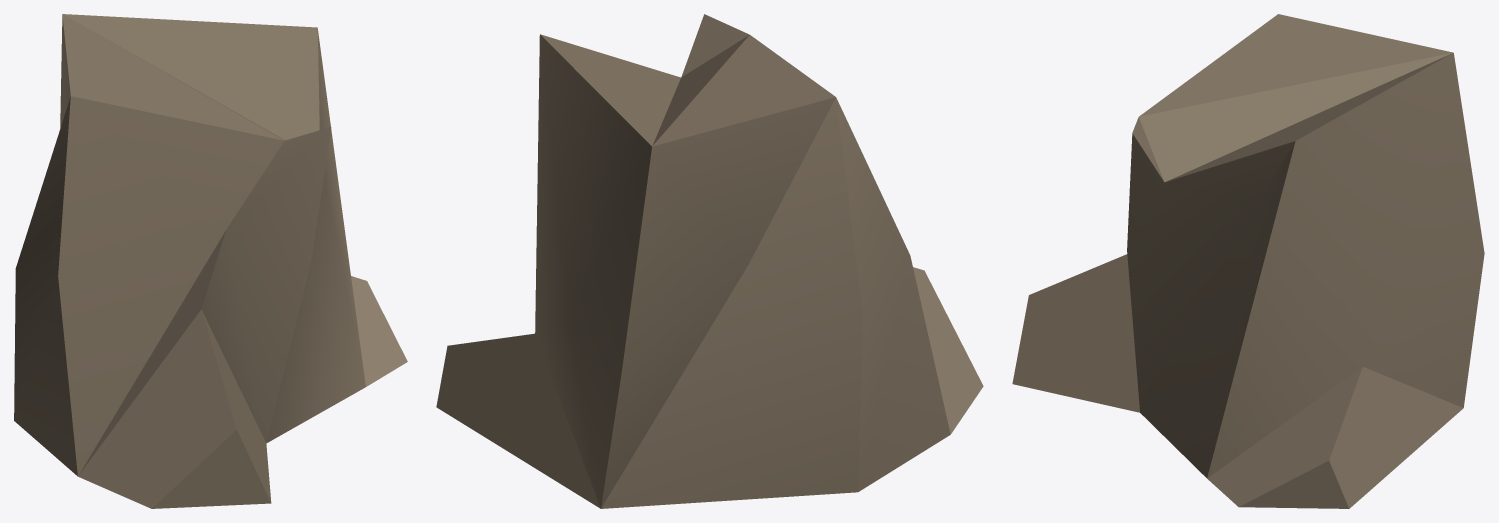
The model's file is Tree_Stump_04.fbx.
3 views of the same model, side by side, from view 1: azimuth 30°, elevation 25°; view 2: azimuth 150°, elevation 25°; view 3: azimuth 270°, elevation 25° (orthographic). The views are drawn at different scales.
Visible parts, largest first — view 1: Tree_Stump_04; view 2: Tree_Stump_04; view 3: Tree_Stump_04.
Part boxes in pixels (x1,y1,x2,y2): Tree_Stump_04: [14, 14, 407, 508]; Tree_Stump_04: [436, 14, 983, 508]; Tree_Stump_04: [1012, 14, 1484, 508].
Bounding box in the file's own units: 20.6 × 17.57 × 22.43.
